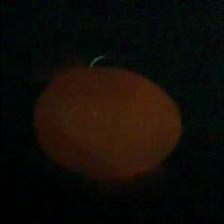fertile: (28, 64, 184, 181)
